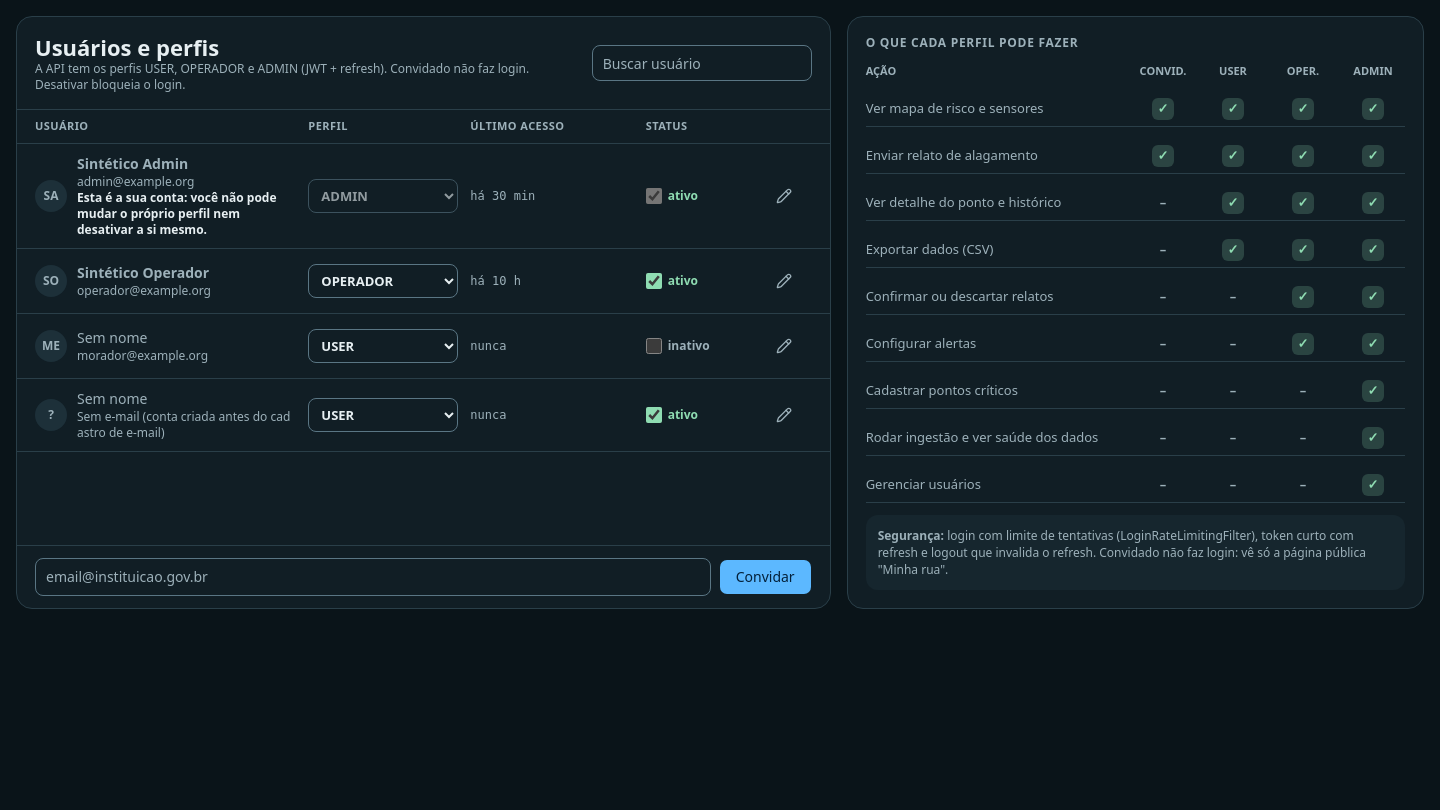
Test: AdminUsersPage › trocar perfil manda PATCH {role}
Select "ADMIN" in the dropdown named "Perfil de Sintético Operador" at [383, 280], box [308, 264, 458, 298]
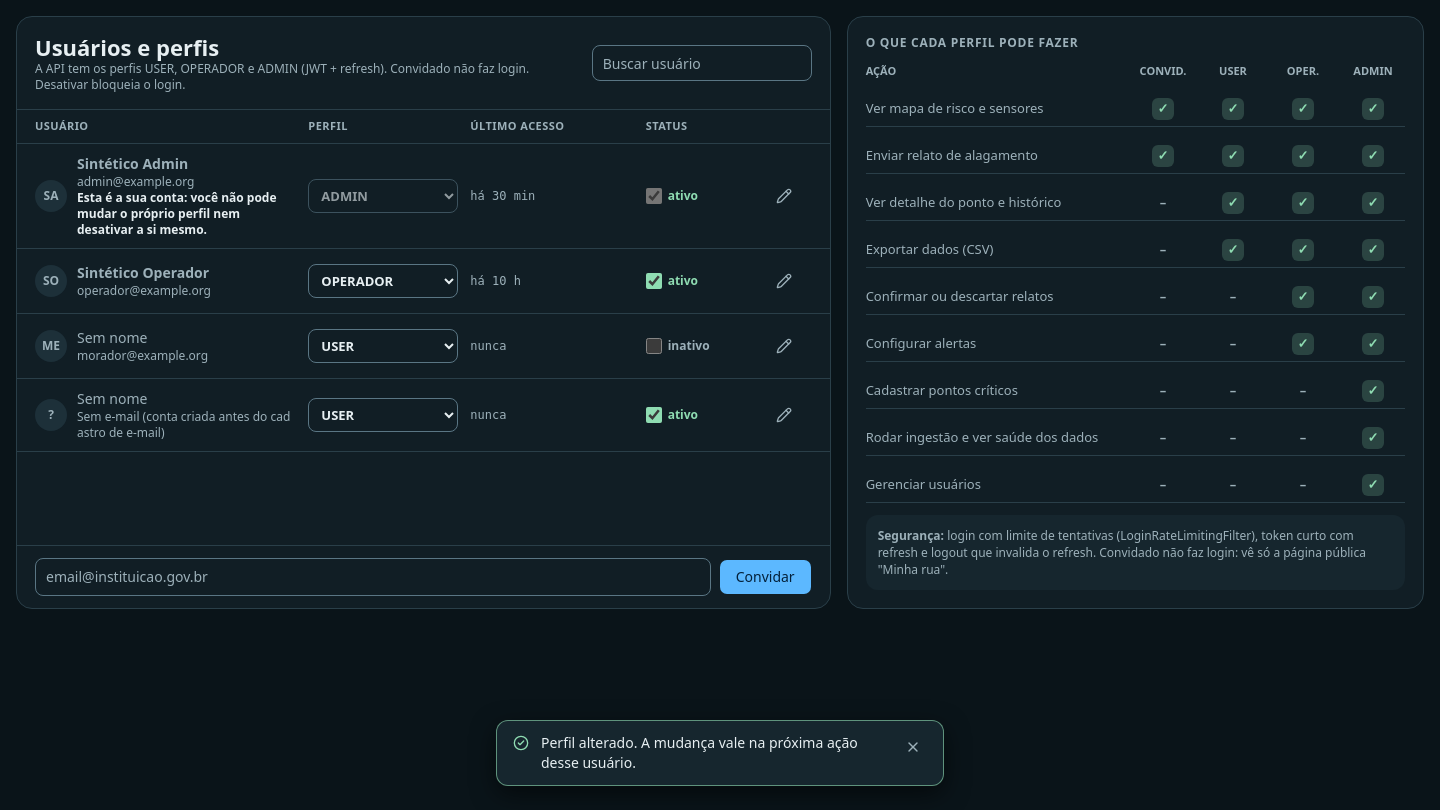
Expected: the text "Perfil alterado. A mudança vale na próxima ação desse usuário." is shown, [541, 733, 887, 773]
